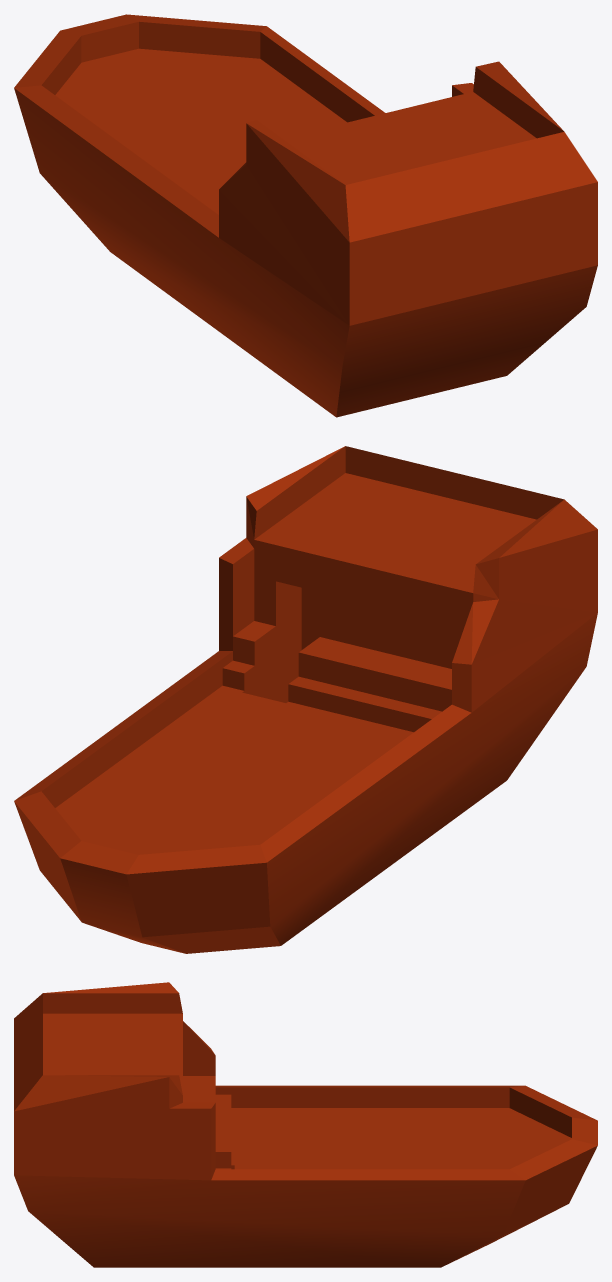
Rendered from Bateau.fbx.
3 renders of one model, top to bottom at view 1: azimuth 30°, elevation 25°; view 2: azimuth 150°, elevation 25°; view 3: azimuth 270°, elevation 25°, orthographic. The views are drawn at different scales.
Visible parts, largest first — view 1: Box415; view 2: Box415; view 3: Box415.
Boxes of the visible parts, box(x1,y1,x2,y2) form: Box415: box(14, 14, 597, 417); Box415: box(14, 446, 597, 953); Box415: box(14, 982, 597, 1267).
Size of the model in its own units: 893 by 906 by 2327.
